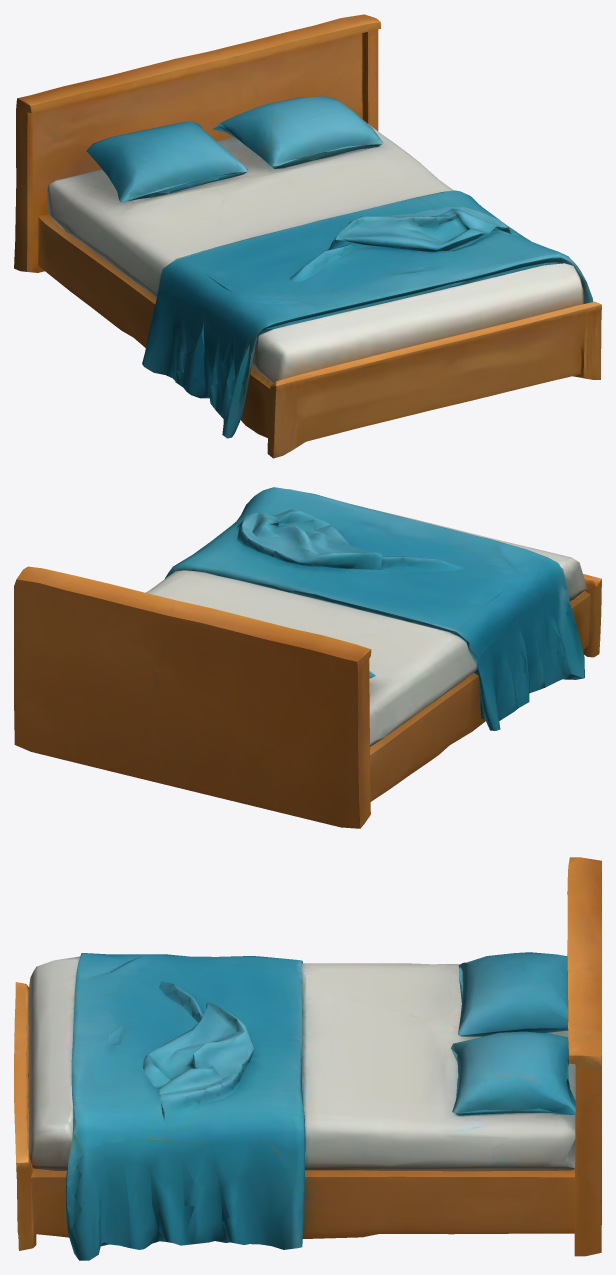
File: bed.glb
3 views of the same model, one above another, from view 1: azimuth 30°, elevation 25°; view 2: azimuth 150°, elevation 25°; view 3: azimuth 270°, elevation 25° (orthographic). The views are drawn at different scales.
Visible parts, largest first — view 1: model; view 2: model; view 3: model.
Part boxes in pixels (<box>): model: <box>14,14,601,458</box>; model: <box>14,487,601,828</box>; model: <box>14,857,601,1260</box>.
Bounding box in the file's own units: 1.57 × 0.7446 × 1.9.
Materials: 1 (1 with a texture image).
